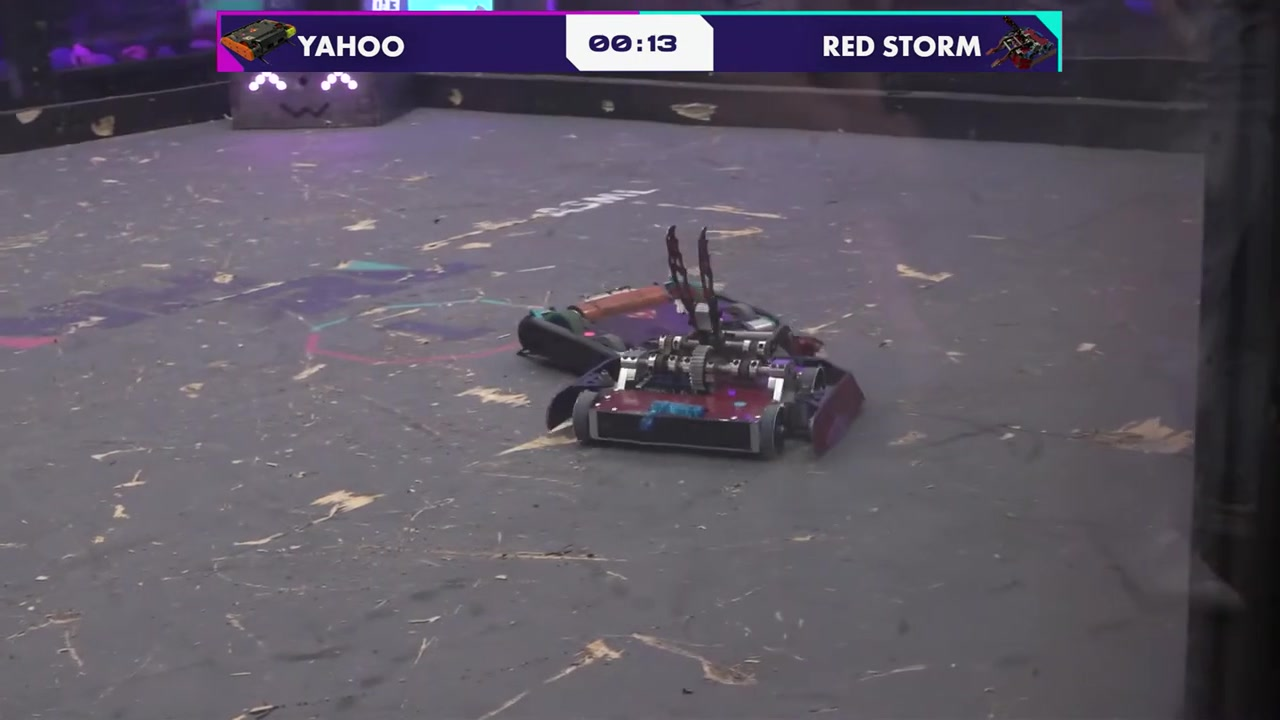combatbot: (546, 351, 860, 454), (519, 282, 799, 370)
housebot: (232, 68, 419, 129)
